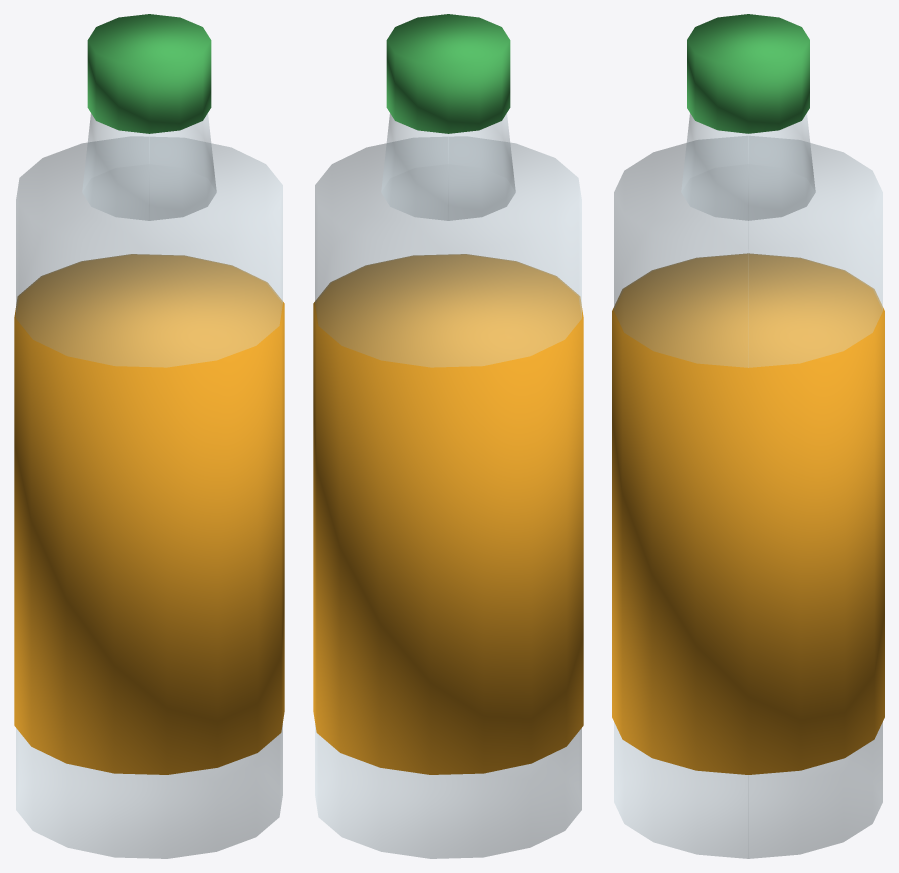
The model's file is Prop_Juice_Bottle.glb.
3 views of the same model, side by side, from view 1: azimuth 30°, elevation 25°; view 2: azimuth 150°, elevation 25°; view 3: azimuth 270°, elevation 25° (orthographic).
Parts seen in each view (by area): view 1: Prop_Juice_Bottle_Export; view 2: Prop_Juice_Bottle_Export; view 3: Prop_Juice_Bottle_Export.
Part boxes in pixels (x1,y1,x2,y2): Prop_Juice_Bottle_Export: [14, 14, 284, 858]; Prop_Juice_Bottle_Export: [313, 14, 583, 858]; Prop_Juice_Bottle_Export: [612, 14, 884, 858].
Size of the model in its own units: 0.073 by 0.225 by 0.073.
